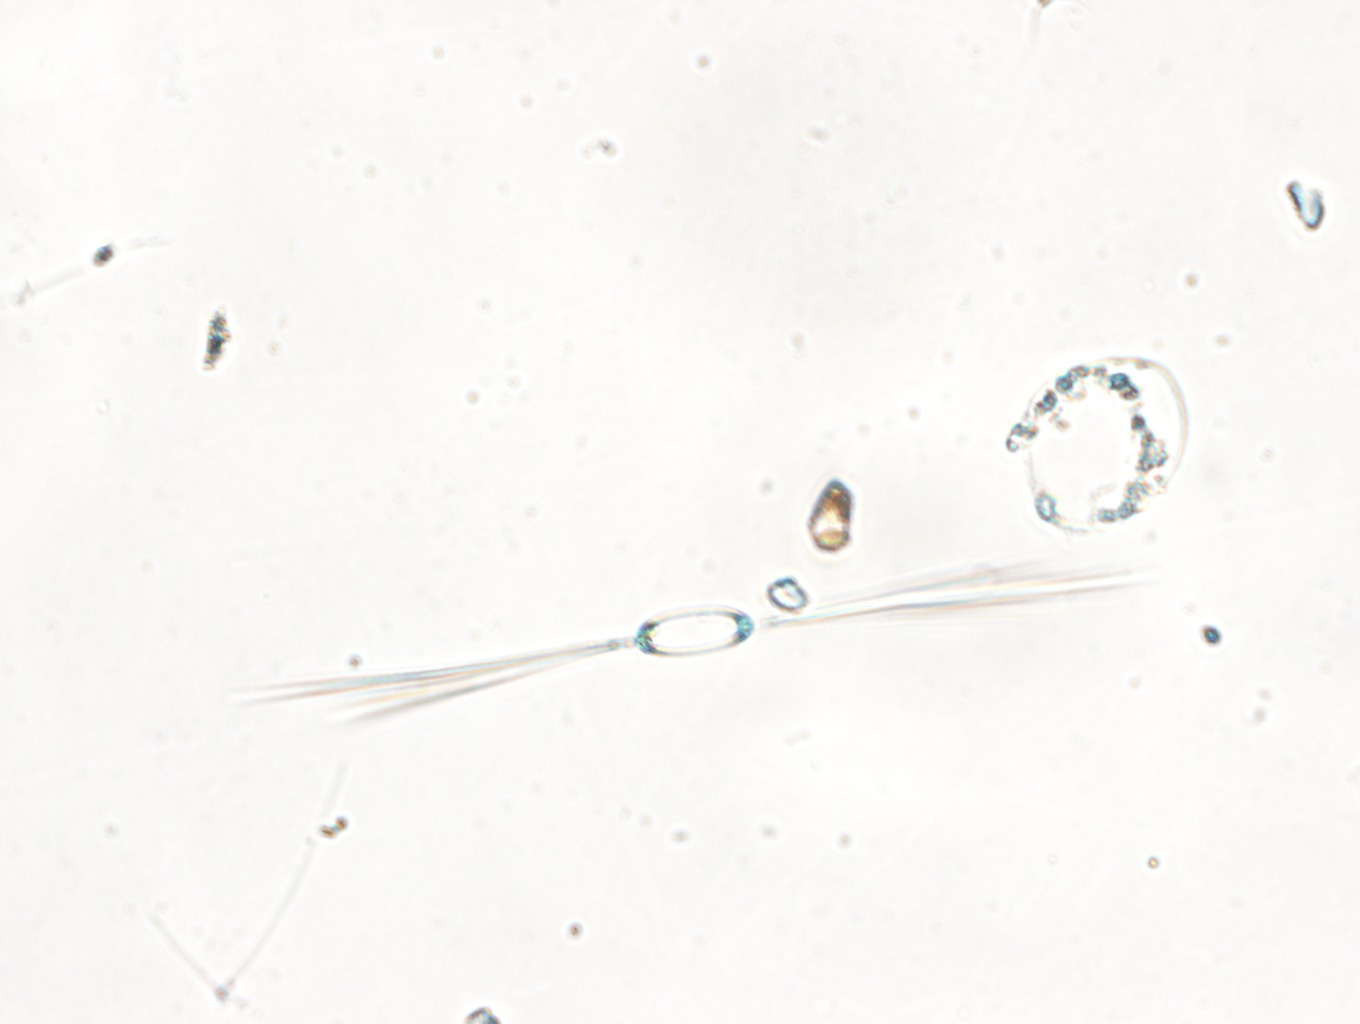chaetoceros: (235, 561, 1132, 727)
